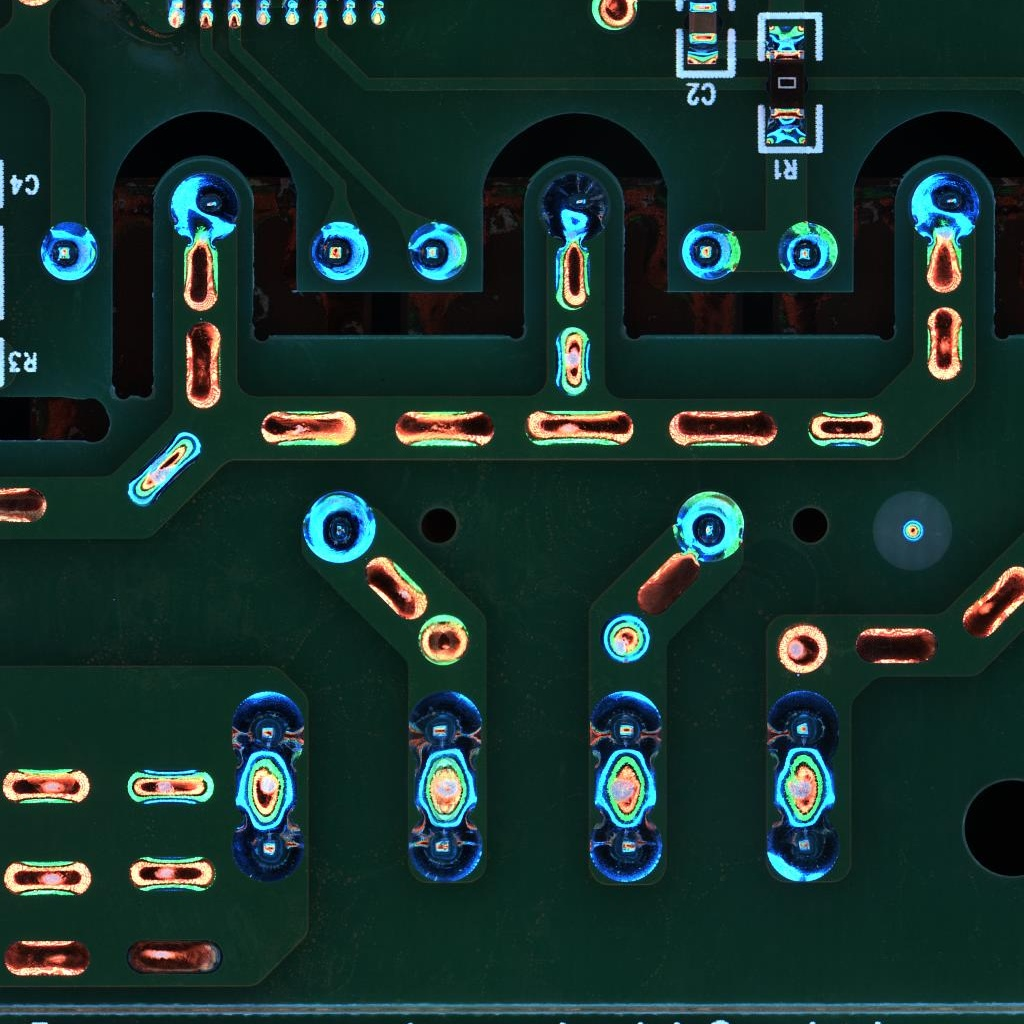spot: (763, 688, 843, 771), (227, 688, 308, 769), (584, 688, 665, 768), (301, 487, 379, 565), (404, 689, 484, 765), (671, 488, 748, 565), (163, 171, 242, 245), (402, 818, 485, 886), (583, 816, 663, 886), (907, 169, 983, 242), (762, 816, 840, 887), (228, 812, 306, 882), (406, 217, 471, 284), (773, 220, 840, 284), (679, 219, 744, 283), (36, 219, 101, 282), (308, 219, 371, 282), (601, 612, 653, 664)
